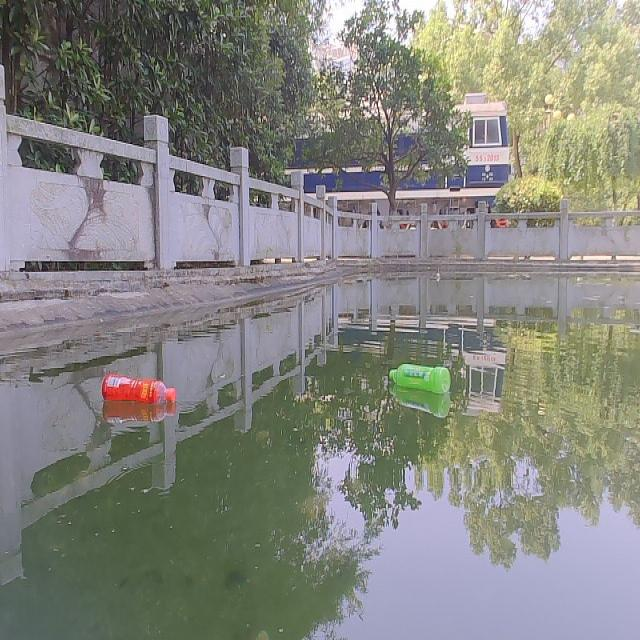Bottle: (100, 374, 175, 402), (388, 361, 449, 391)
